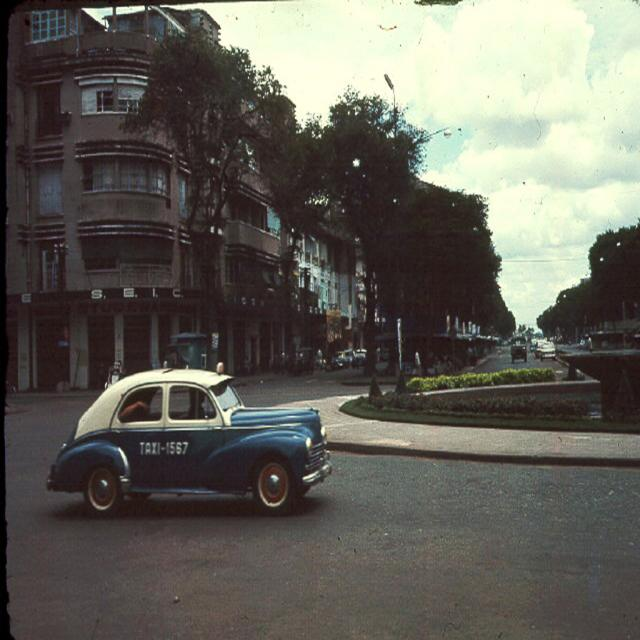car: (44, 364, 331, 513), (539, 341, 555, 361)
